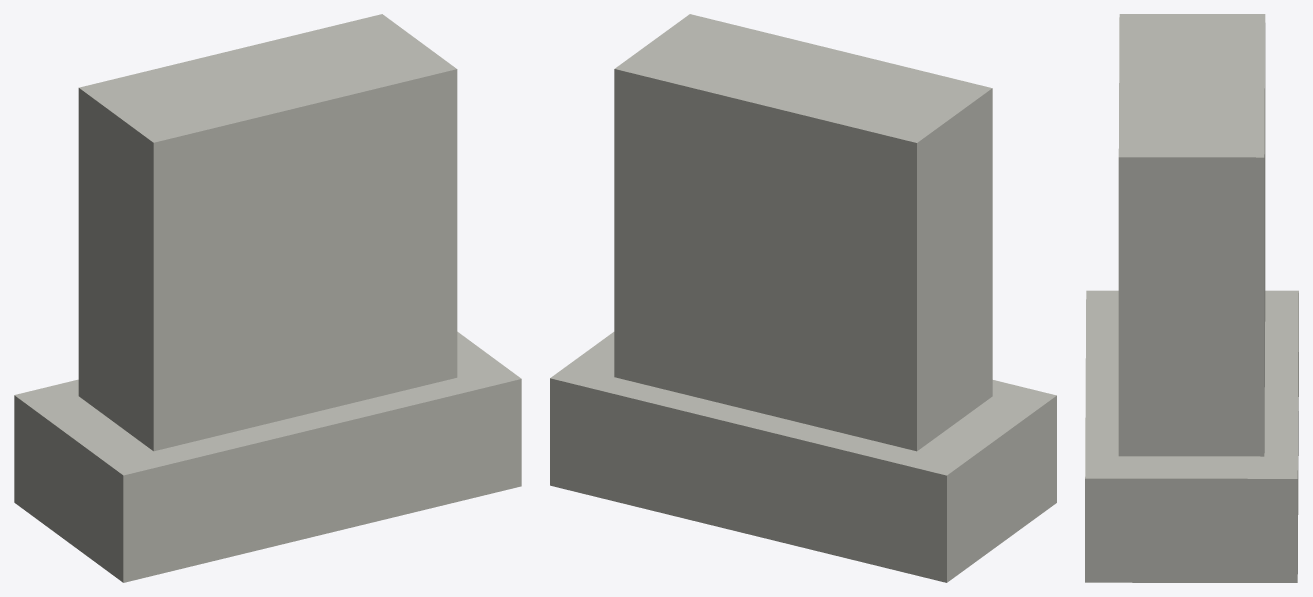
The model's file is cemetary_headstone0.fbx.
3 renders of one model, left to right at view 1: azimuth 30°, elevation 25°; view 2: azimuth 150°, elevation 25°; view 3: azimuth 270°, elevation 25°, orthographic. The views are drawn at different scales.
Parts seen in each view (by area): view 1: polySurface1363; view 2: polySurface1363; view 3: polySurface1363.
Boxes of the visible parts, left/top/right/bottom form: polySurface1363: left=14, top=14, right=521, bottom=582; polySurface1363: left=550, top=14, right=1056, bottom=582; polySurface1363: left=1085, top=14, right=1298, bottom=582.
Bounding box in the file's own units: 16.55 × 16.52 × 7.94.
1 material, 1 textured.
